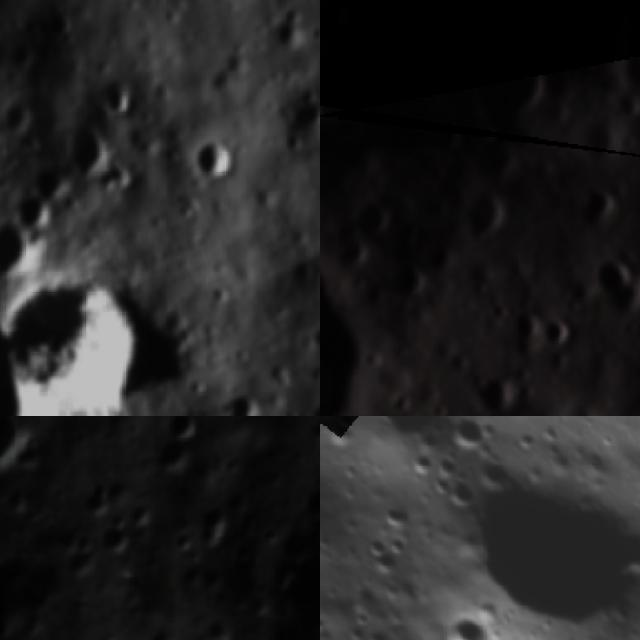crater: (429, 416, 640, 640), (0, 253, 165, 416), (320, 162, 420, 416), (229, 449, 320, 640), (466, 43, 560, 138), (571, 235, 640, 329), (564, 108, 640, 176), (60, 118, 124, 190), (376, 252, 446, 316), (459, 128, 526, 194), (447, 185, 512, 253), (0, 416, 52, 492), (140, 423, 198, 490), (188, 488, 248, 550), (186, 130, 244, 193), (568, 180, 626, 240), (344, 188, 402, 248), (463, 365, 530, 416), (280, 457, 320, 538), (323, 228, 379, 282), (605, 25, 640, 108), (499, 301, 552, 353), (0, 216, 41, 282), (532, 314, 586, 364), (425, 604, 496, 640), (535, 92, 584, 142), (12, 188, 60, 236), (320, 94, 343, 193), (146, 416, 214, 448), (489, 394, 570, 416), (216, 384, 270, 416), (41, 7, 77, 44), (320, 0, 352, 36), (338, 0, 378, 25), (320, 89, 335, 138)
